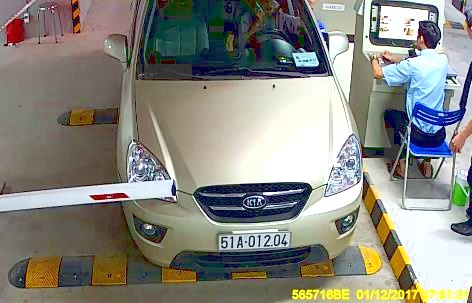plate: (218, 229, 290, 249)
